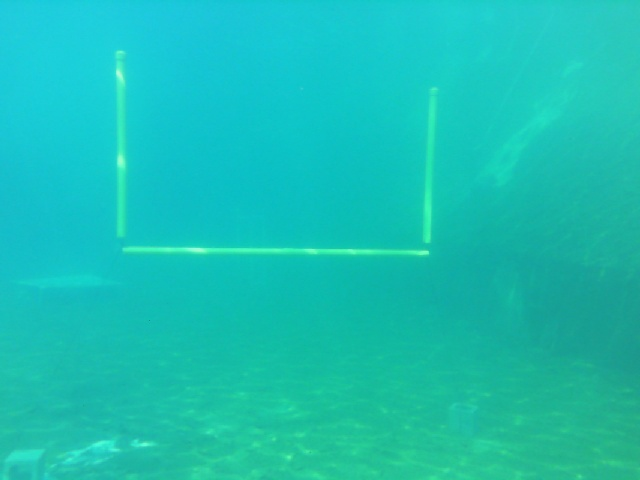channel: (112, 48, 447, 266)
